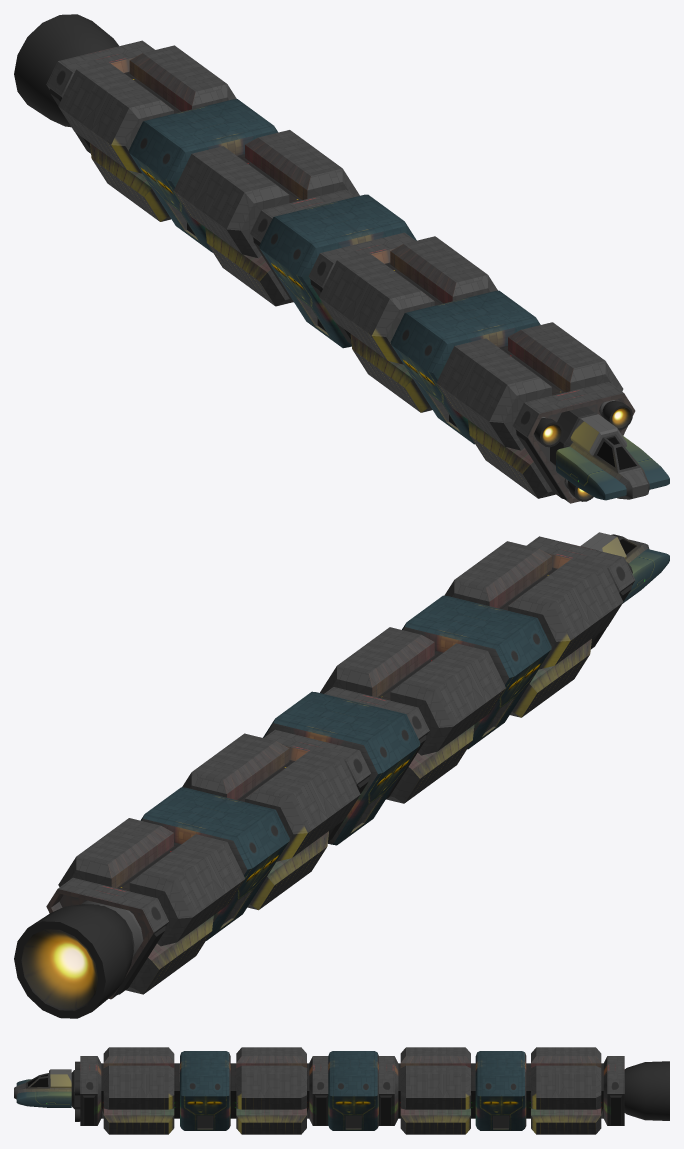
The model's file is AlpacaL.fbx.
3 renders of one model, top to bottom at view 1: azimuth 30°, elevation 25°; view 2: azimuth 150°, elevation 25°; view 3: azimuth 270°, elevation 25°, orthographic. The views are drawn at different scales.
Visible parts, largest first — view 1: AlpacaL_LOD0; view 2: AlpacaL_LOD0; view 3: AlpacaL_LOD0.
Boxes of the visible parts, x1,y1,x2,y2 form: AlpacaL_LOD0: [14, 14, 669, 503]; AlpacaL_LOD0: [14, 532, 669, 1018]; AlpacaL_LOD0: [14, 1047, 669, 1134].
Size of what is drawn, in the model's own units: 1183 by 1024 by 8856.
1 material, 1 textured.
